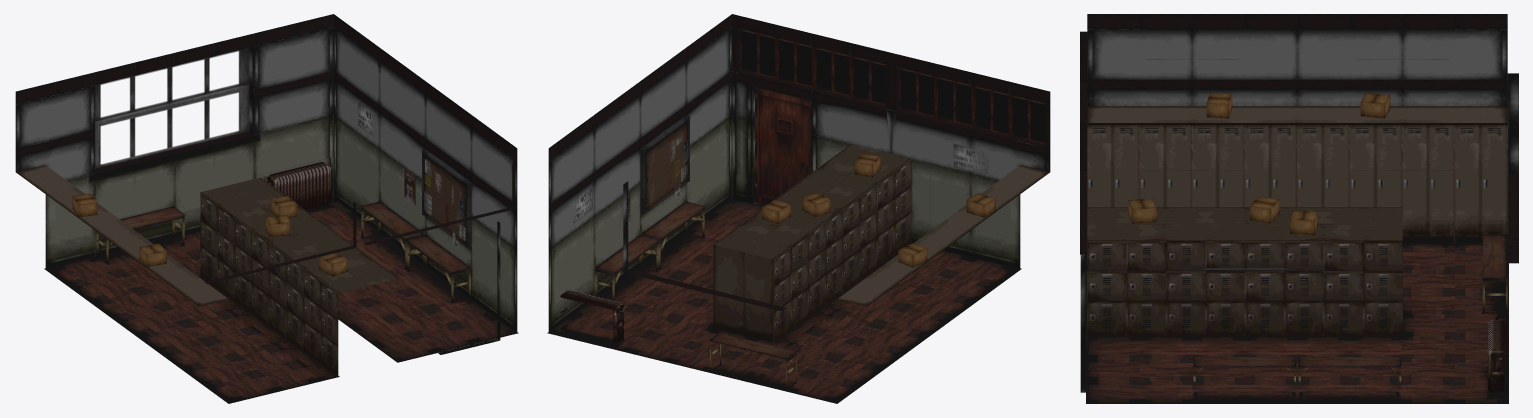
The model's file is SCFE00.glb.
3 views of the same model, side by side, from view 1: azimuth 30°, elevation 25°; view 2: azimuth 150°, elevation 25°; view 3: azimuth 270°, elevation 25° (orthographic). The views are drawn at different scales.
Visible parts, largest first — view 1: NULL_m7, NULL_m0, NULL_m2, NULL_m6, NULL_m3, NULL_m4, NULL_m1, NULL_NEA_m0, CH_HIDE_m0, CH_HIDE#1_m0, CH_HIDE#2_m0, BOX_HIDE#3_m0 (+4 smaller); view 2: NULL_m4, NULL_m0, NULL_m2, NULL_m6, NULL_m3, NULL_NEA_m0, NULL_m7, CH_HIDE#1_m0, CH_HIDE_m0, CH_HIDE#2_m0, NULL_m1, BOX_HIDE_m0 (+4 smaller); view 3: NULL_m3, NULL_m6, NULL_m0, NULL_m4, NULL_m7, CH_HIDE#2_m0, NULL_m1, CH_HIDE#1_m0, CH_HIDE_m0, BOX_HIDE#1_m0, BOX_HIDE#4_m0, BOX_HIDE#3_m0 (+2 smaller).
Boxes of the visible parts, <box> form: NULL_m7: <box>15,14,333,268</box>; NULL_m0: <box>44,198,518,403</box>; NULL_m2: <box>333,14,517,332</box>; NULL_m6: <box>200,177,398,376</box>; NULL_m3: <box>16,165,228,306</box>; NULL_m4: <box>204,163,515,354</box>; NULL_m1: <box>267,161,330,211</box>; NULL_NEA_m0: <box>358,101,465,248</box>; CH_HIDE_m0: <box>407,235,470,303</box>; CH_HIDE#1_m0: <box>361,201,424,269</box>; CH_HIDE#2_m0: <box>96,206,184,264</box>; BOX_HIDE#3_m0: <box>319,253,347,276</box>; NULL_m4: <box>732,14,1050,268</box>; NULL_m0: <box>547,184,1021,403</box>; NULL_m2: <box>548,14,732,332</box>; NULL_m6: <box>713,144,911,342</box>; NULL_m3: <box>837,165,1049,306</box>; NULL_NEA_m0: <box>573,128,988,226</box>; NULL_m7: <box>623,181,786,311</box>; CH_HIDE#1_m0: <box>595,235,658,300</box>; CH_HIDE_m0: <box>641,201,704,269</box>; CH_HIDE#2_m0: <box>709,333,796,390</box>; NULL_m1: <box>560,289,623,347</box>; BOX_HIDE_m0: <box>966,193,995,217</box>; NULL_m3: <box>1087,14,1507,242</box>; NULL_m6: <box>1087,207,1402,336</box>; NULL_m0: <box>1086,242,1508,403</box>; NULL_m4: <box>1080,31,1087,392</box>; NULL_m7: <box>1507,73,1518,263</box>; CH_HIDE#2_m0: <box>1482,234,1507,313</box>; NULL_m1: <box>1488,317,1507,392</box>; CH_HIDE#1_m0: <box>1298,357,1401,382</box>; CH_HIDE_m0: <box>1193,357,1295,382</box>; BOX_HIDE#1_m0: <box>1360,92,1390,118</box>; BOX_HIDE#4_m0: <box>1249,196,1279,223</box>; BOX_HIDE#3_m0: <box>1128,198,1156,223</box>.
Size of the model in its own units: 6.44 by 3.56 by 6.68.
Materials: 21 (21 with a texture image).
